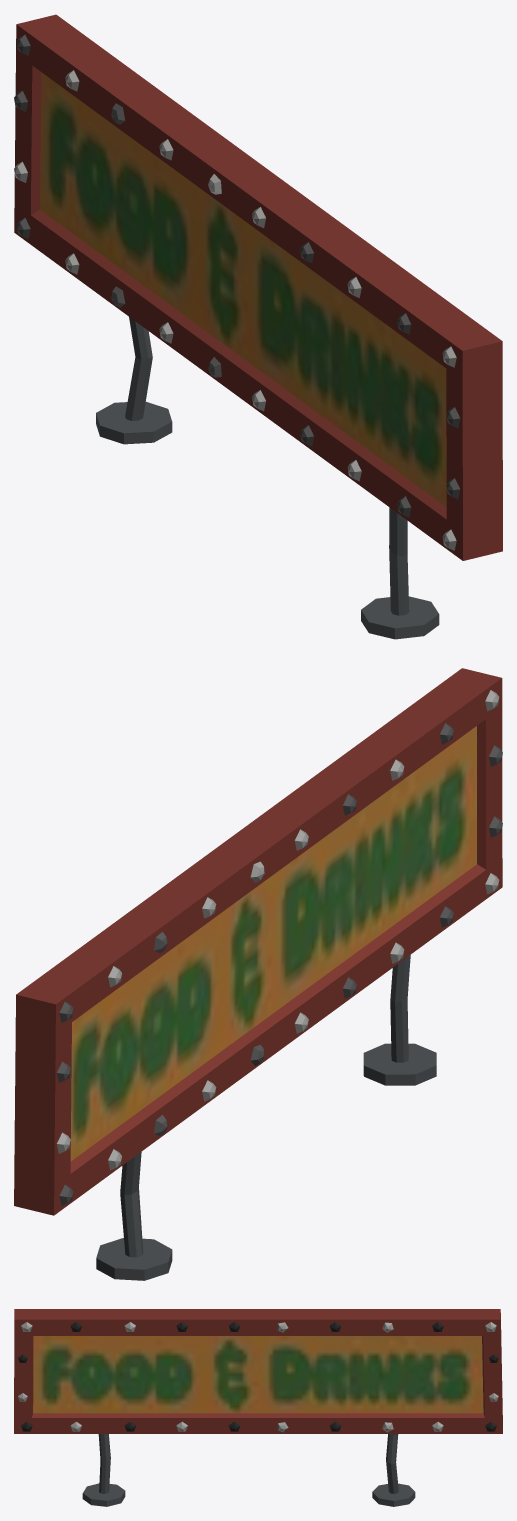
The model's file is sign-billboard.glb.
The picture shows the model from 3 angles, top to bottom: view 1: azimuth 30°, elevation 25°; view 2: azimuth 150°, elevation 25°; view 3: azimuth 270°, elevation 25°; orthographic projection. The views are drawn at different scales.
Visible parts, largest first — view 1: SM_Prop_Sign_Billboard_01; view 2: SM_Prop_Sign_Billboard_01; view 3: SM_Prop_Sign_Billboard_01.
Part boxes in pixels (x1,y1,x2,y2): SM_Prop_Sign_Billboard_01: (14,14,502,639); SM_Prop_Sign_Billboard_01: (14,668,502,1280); SM_Prop_Sign_Billboard_01: (14,1309,502,1506).
Bounding box in the file's own units: 23.49 × 111 × 267.
1 material, 1 textured.
